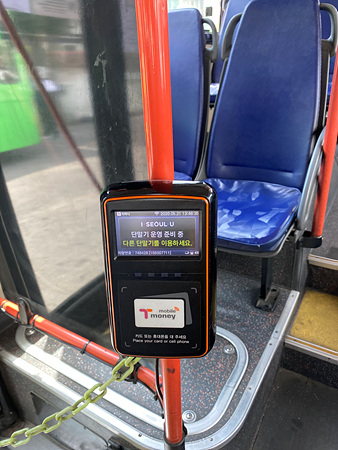terminal: (103, 193, 217, 351)
